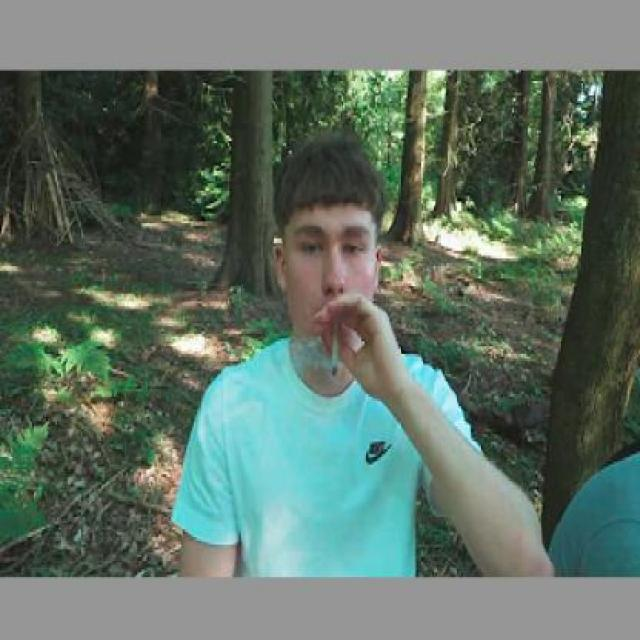cigarette: (323, 298, 348, 396)
